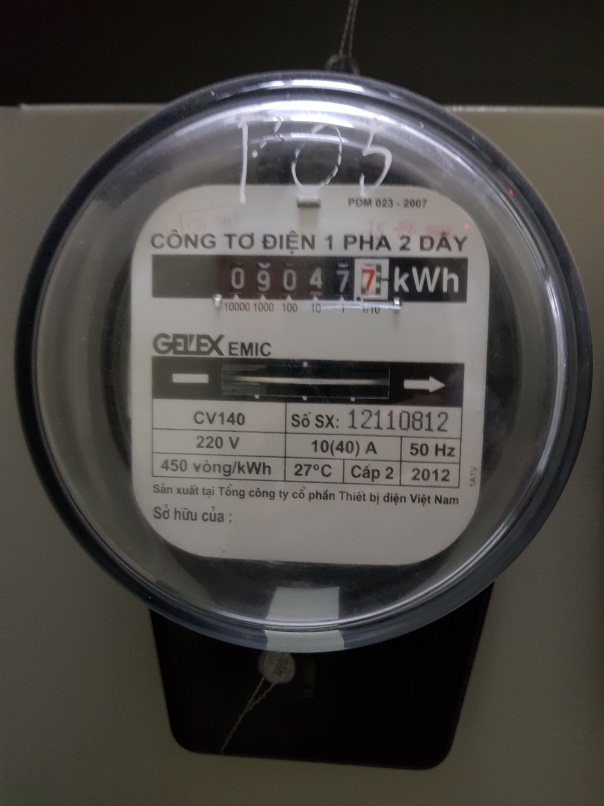counter: (154, 255, 470, 302)
electricity_meter: (15, 66, 593, 647)
